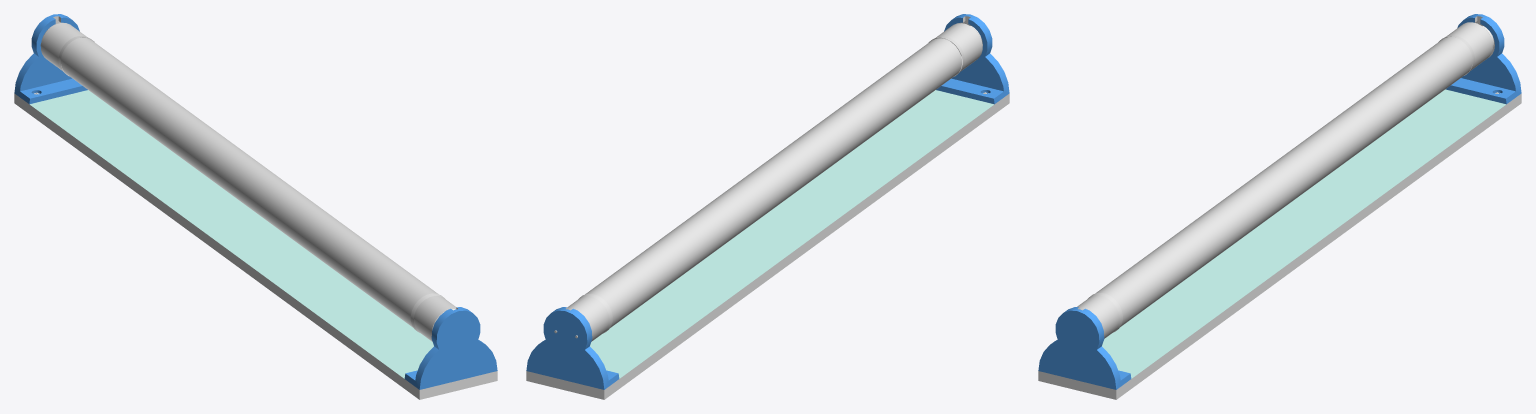
Rendered from Florasan_Lamp.fbx.
3 renders of one model, left to right at view 1: azimuth 30°, elevation 25°; view 2: azimuth 150°, elevation 25°; view 3: azimuth 330°, elevation 25°, orthographic.
Parts seen in each view (by area): view 1: Group_002, Group_001, 1_002, 1_001, 0_001, 0_002; view 2: Group_002, Group_001, 1_001, 1_002, 0_001, 0_002; view 3: Group_002, Group_001, 1_002, 1_001, 0_002, 0_001.
Boxes of the visible parts, bbox=[...] form: Group_002: bbox=[14, 90, 497, 399]; Group_001: bbox=[61, 37, 437, 327]; 1_002: bbox=[404, 307, 497, 389]; 1_001: bbox=[14, 14, 87, 104]; 0_001: bbox=[410, 293, 456, 341]; 0_002: bbox=[40, 23, 94, 76]; Group_002: bbox=[526, 90, 1009, 399]; Group_001: bbox=[585, 38, 961, 327]; 1_001: bbox=[526, 307, 619, 389]; 1_002: bbox=[936, 14, 1009, 104]; 0_001: bbox=[928, 23, 982, 76]; 0_002: bbox=[567, 294, 612, 341]; Group_002: bbox=[1038, 89, 1521, 399]; Group_001: bbox=[1095, 37, 1472, 327]; 1_002: bbox=[1038, 307, 1131, 389]; 1_001: bbox=[1445, 14, 1521, 104]; 0_002: bbox=[1439, 22, 1492, 75]; 0_001: bbox=[1077, 293, 1122, 338].
Bounding box in the file's own units: 90 × 87.52 × 811.
